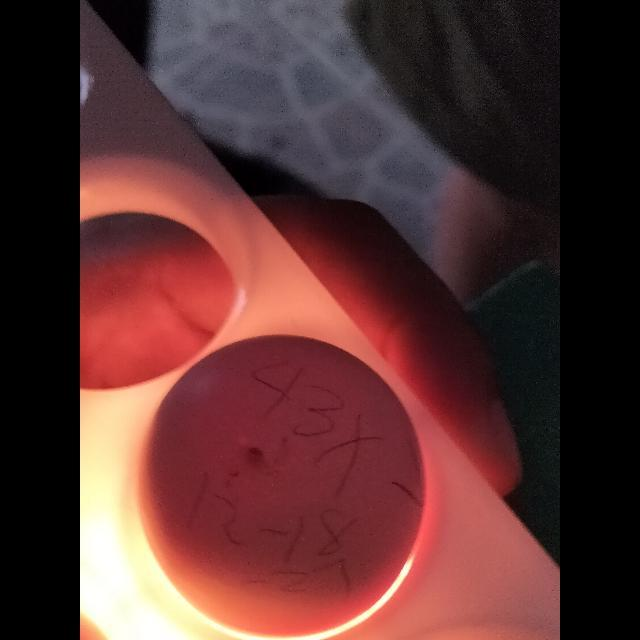Fertile: (138, 330, 426, 640)
